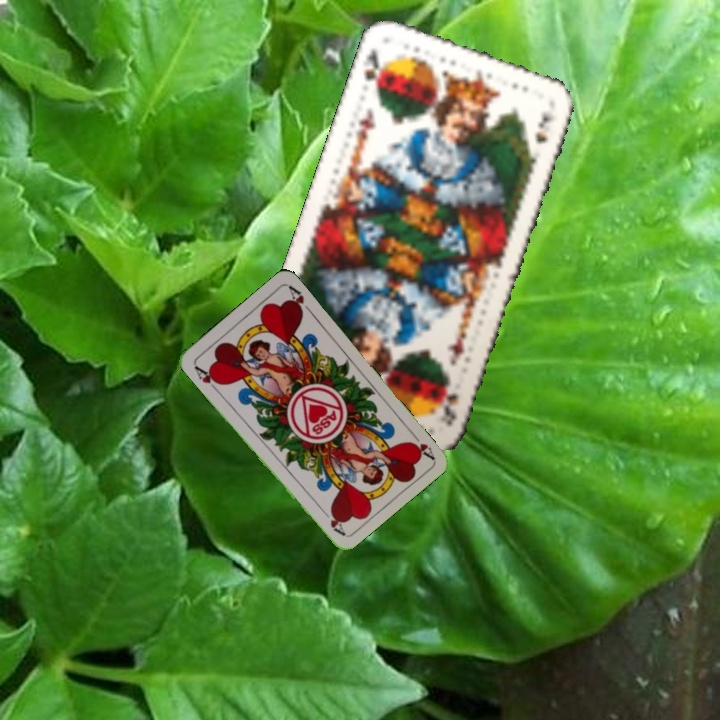HA: (190, 361, 224, 395), (404, 427, 437, 461)
SK: (359, 44, 389, 95), (436, 385, 461, 428)
